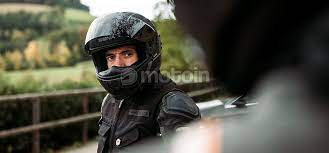helmets: (79, 11, 169, 100)
